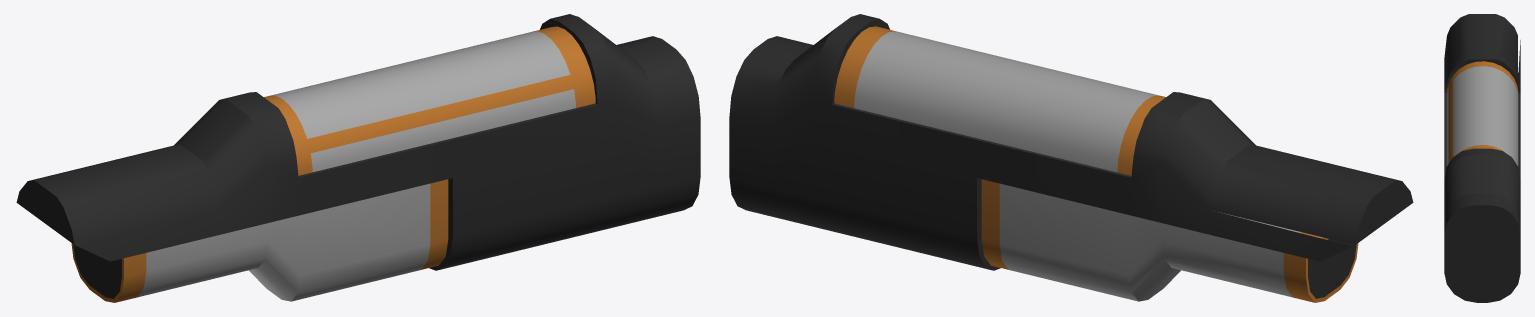
The model's file is Body_SMG_1.glb.
3 views of the same model, side by side, from view 1: azimuth 30°, elevation 25°; view 2: azimuth 150°, elevation 25°; view 3: azimuth 270°, elevation 25° (orthographic). The views are drawn at different scales.
Visible parts, largest first — view 1: Body_SMG_1; view 2: Body_SMG_1; view 3: Body_SMG_1.
Boxes of the visible parts, x1=… form: Body_SMG_1: x1=16, y1=14, x2=700, y2=302; Body_SMG_1: x1=729, y1=14, x2=1413, y2=302; Body_SMG_1: x1=1444, y1=14, x2=1520, y2=302.
Size of the model in its own units: 0.8824 by 0.2726 by 0.1529.
